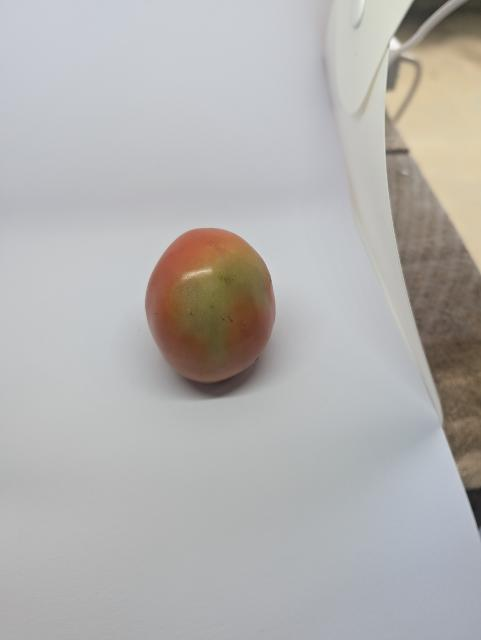turning: (135, 222, 279, 391)
